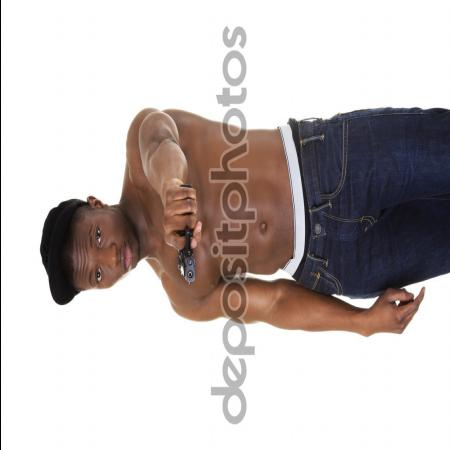Pistol: (172, 190, 201, 281)
